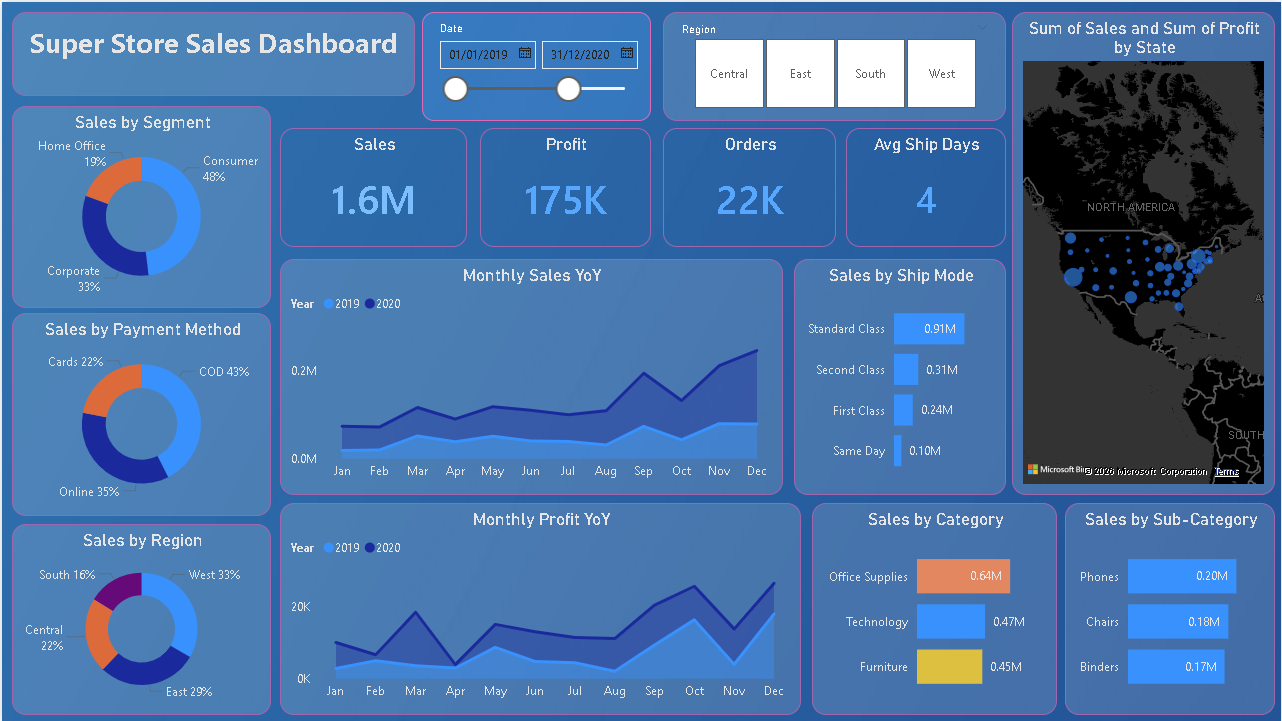

The page's visual inventory and layout, read from the dashboard file:
{"tool":"powerbi","page":{"name":"Sales Dashboard","canvas":[1280,720],"ordinal":0},"visuals":[{"type":"clusteredBarChart","title":"Profit by Category","fields":{"Category":["Product.Category"],"Y":["Sum(SuperStore_Sales_Dataset.Profit)"]},"box":[810,501,245,212],"z":0},{"type":"clusteredBarChart","title":"Profit by Sub-Category","fields":{"Category":["Product.Sub-Category"],"Y":["Sum(SuperStore_Sales_Dataset.Profit)"]},"box":[1063,501,210,212],"z":1000},{"type":"clusteredBarChart","title":"Sales by Ship Mode","fields":{"Y":["Sum(SuperStore_Sales_Dataset.Sales)"],"Category":["SuperStore_Sales_Dataset.Ship Mode"]},"box":[792,257,212,236],"z":2000},{"type":"stackedAreaChart","title":"Monthly Profit YoY","fields":{"Y":["Sum(SuperStore_Sales_Dataset.Profit)"],"Series":["Date.Year"],"Category":["Date.Month"]},"box":[278,501,521,212],"z":3000},{"type":"stackedAreaChart","title":"Monthly Sales YoY","fields":{"Y":["Sum(SuperStore_Sales_Dataset.Sales)"],"Category":["Date.Month"],"Series":["Date.Year"]},"box":[278,257,503,236],"z":4000},{"type":"map","fields":{"Category":["SuperStore_Sales_Dataset.State"],"Size":["Sum(SuperStore_Sales_Dataset.Sales)"]},"box":[1010,10,263,483],"z":5000},{"type":"donutChart","title":"Sales by Segment","fields":{"Y":["Sum(SuperStore_Sales_Dataset.Sales)"],"Category":["Customer.Segment"]},"box":[10,104,259,202],"z":6000},{"type":"donutChart","title":"Sales by Payment Method","fields":{"Y":["Sum(SuperStore_Sales_Dataset.Sales)"],"Category":["SuperStore_Sales_Dataset.Payment Mode"]},"box":[10,311,259,203],"z":7000},{"type":"slicer","fields":{"Values":["Customer.Region"]},"box":[661,10,343,109],"z":8000},{"type":"textbox","box":[10,10,403,84],"z":9000},{"type":"cardVisual","title":"Sales","fields":{"Data":["Sum(SuperStore_Sales_Dataset.Sales)"]},"box":[278,126,187,119],"z":10000},{"type":"cardVisual","title":"Profit","fields":{"Data":["Sum(SuperStore_Sales_Dataset.Profit)"]},"box":[478,126,171,119],"z":11000},{"type":"cardVisual","title":"Orders","fields":{"Data":["Sum(SuperStore_Sales_Dataset.Quantity)"]},"box":[661,126,173,119],"z":12000},{"type":"cardVisual","title":"Avg Ship Days","fields":{"Data":["Avg(SuperStore_Sales_Dataset.AvgDelivery)"]},"box":[844,126,160,119],"z":13000},{"type":"donutChart","title":"Sales by Region","fields":{"Category":["Customer.Region"],"Y":["Sum(SuperStore_Sales_Dataset.Profit)"]},"box":[10,522,259,191],"z":14000},{"type":"slicer","fields":{"Values":["Date.Date"]},"box":[420,10,229,109],"z":15000}]}

Visuals, with their boxes in screenshot pixels (x1, y1, x2, y2), scaled from the page's 1280x720 canvas onto the 1282x721 screenshot:
"Profit by Category" clusteredBarChart: crop(811, 502, 1057, 714)
"Profit by Sub-Category" clusteredBarChart: crop(1065, 502, 1275, 714)
"Sales by Ship Mode" clusteredBarChart: crop(793, 257, 1006, 494)
"Monthly Profit YoY" stackedAreaChart: crop(278, 502, 800, 714)
"Monthly Sales YoY" stackedAreaChart: crop(278, 257, 782, 494)
map - SuperStore_Sales_Dataset.State x Sum(SuperStore_Sales_Dataset.Sales): crop(1012, 10, 1275, 494)
"Sales by Segment" donutChart: crop(10, 104, 269, 306)
"Sales by Payment Method" donutChart: crop(10, 311, 269, 515)
slicer - Customer.Region: crop(662, 10, 1006, 119)
textbox: crop(10, 10, 414, 94)
"Sales" cardVisual: crop(278, 126, 466, 245)
"Profit" cardVisual: crop(479, 126, 650, 245)
"Orders" cardVisual: crop(662, 126, 835, 245)
"Avg Ship Days" cardVisual: crop(845, 126, 1006, 245)
"Sales by Region" donutChart: crop(10, 523, 269, 714)
slicer - Date.Date: crop(421, 10, 650, 119)
